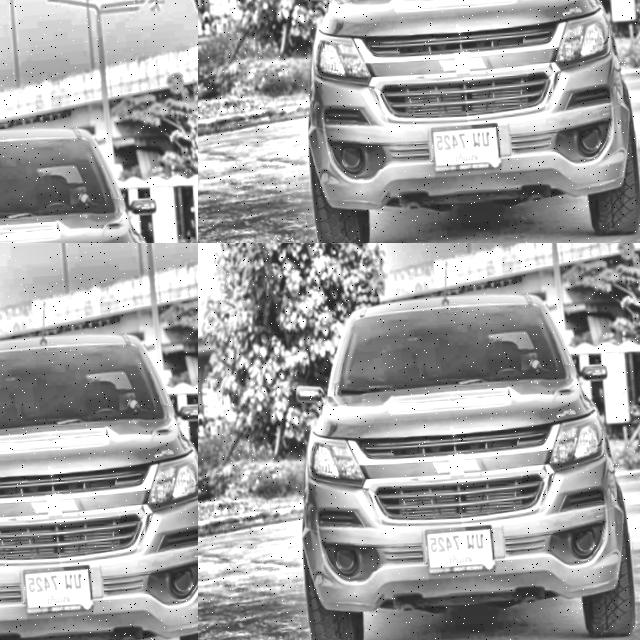license-plate: (419, 523, 493, 579)
